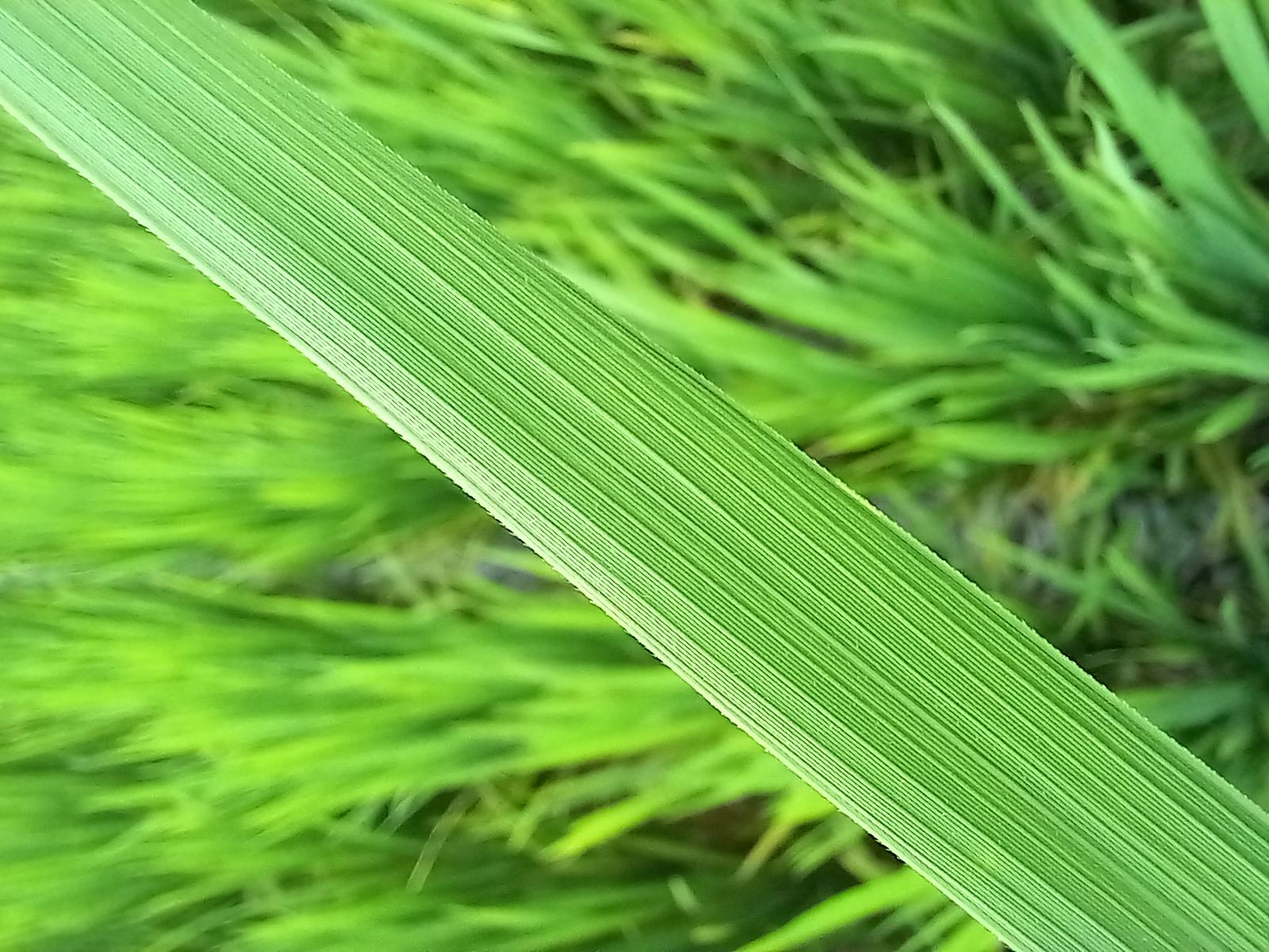Healthy: (1, 0, 1268, 951)
